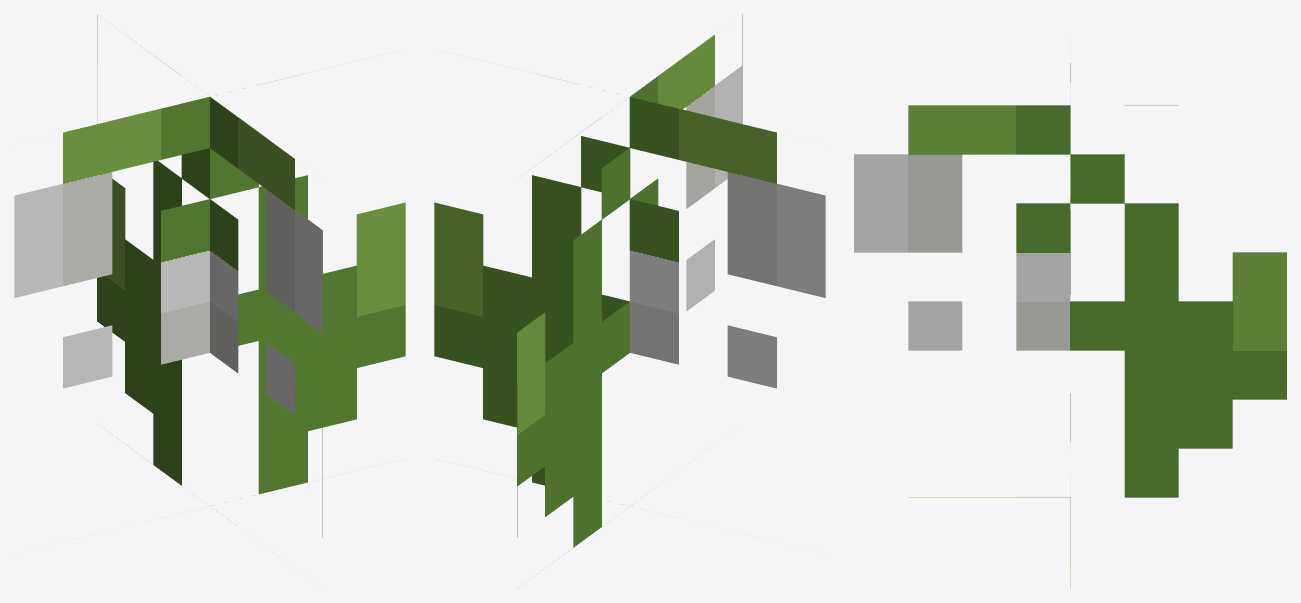
The model's file is Flower_White.fbx.
3 views of the same model, side by side, from view 1: azimuth 30°, elevation 25°; view 2: azimuth 150°, elevation 25°; view 3: azimuth 270°, elevation 25° (orthographic). The views are drawn at different scales.
Parts seen in each view (by area): view 1: Cube.3984; view 2: Cube.3984; view 3: Cube.3984.
Boxes of the visible parts, x1,y1,x2,y2 form: Cube.3984: [14, 14, 405, 568]; Cube.3984: [434, 14, 825, 584]; Cube.3984: [854, 37, 1286, 588].
Bounding box in the file's own units: 200 × 200 × 200.
1 material, 1 textured.
